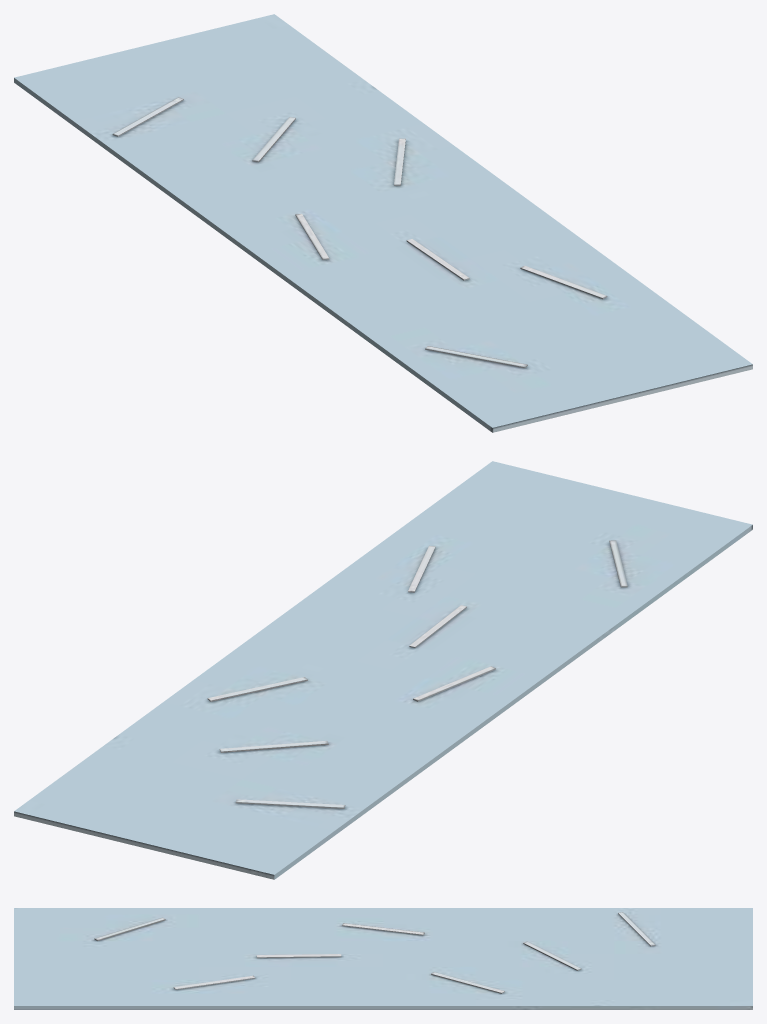
The model's file is placa_hielo.glb.
3 renders of one model, top to bottom at view 1: azimuth 30°, elevation 25°; view 2: azimuth 150°, elevation 25°; view 3: azimuth 270°, elevation 25°, orthographic. The views are drawn at different scales.
Visible parts, largest first — view 1: placa_hielo; view 2: placa_hielo; view 3: placa_hielo.
Part boxes in pixels (bbox=[...]): placa_hielo: bbox=[14, 14, 752, 432]; placa_hielo: bbox=[14, 461, 752, 879]; placa_hielo: bbox=[14, 908, 752, 1009].
Size of the model in its own units: 2.2 by 0.055 by 7.
Materials: 1 (1 with a texture image).
